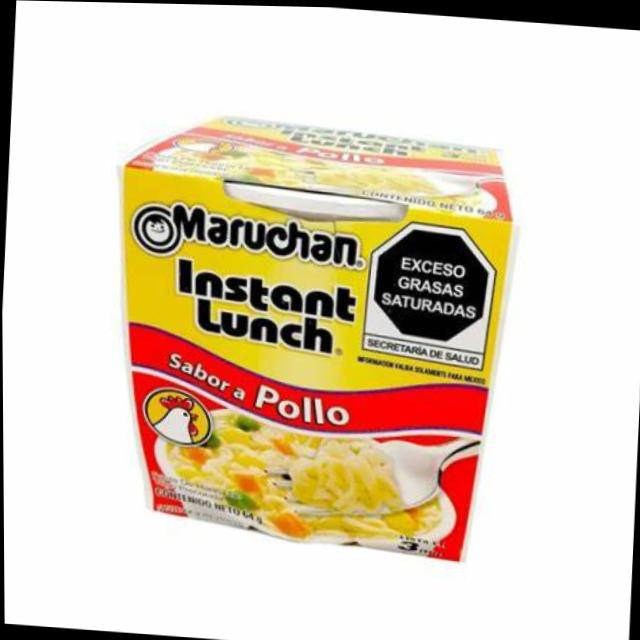Caja: (88, 70, 522, 580)
